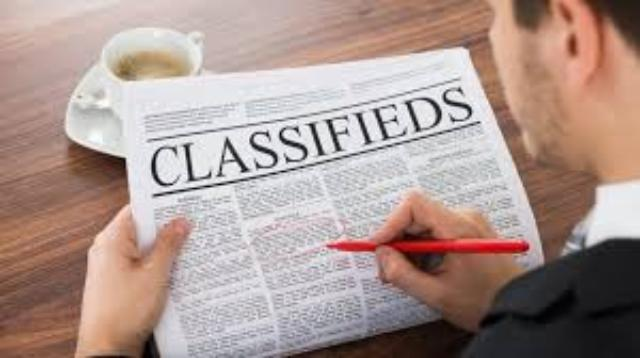cardboard paper: (126, 47, 540, 352)
